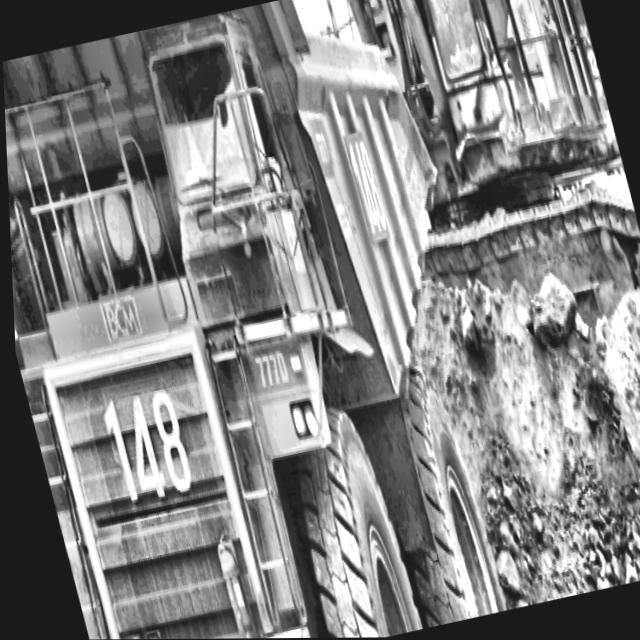dump_truck: (0, 0, 533, 640)
